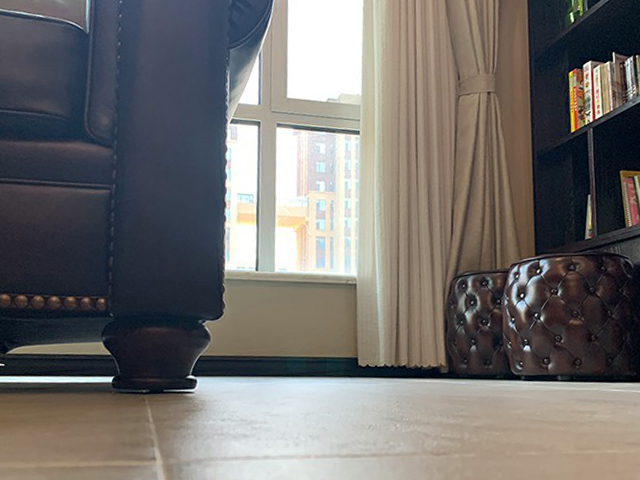curtain: (356, 1, 445, 368), (447, 1, 520, 263)
sofa: (1, 1, 273, 393)
stool: (500, 249, 640, 384), (443, 267, 514, 379)
